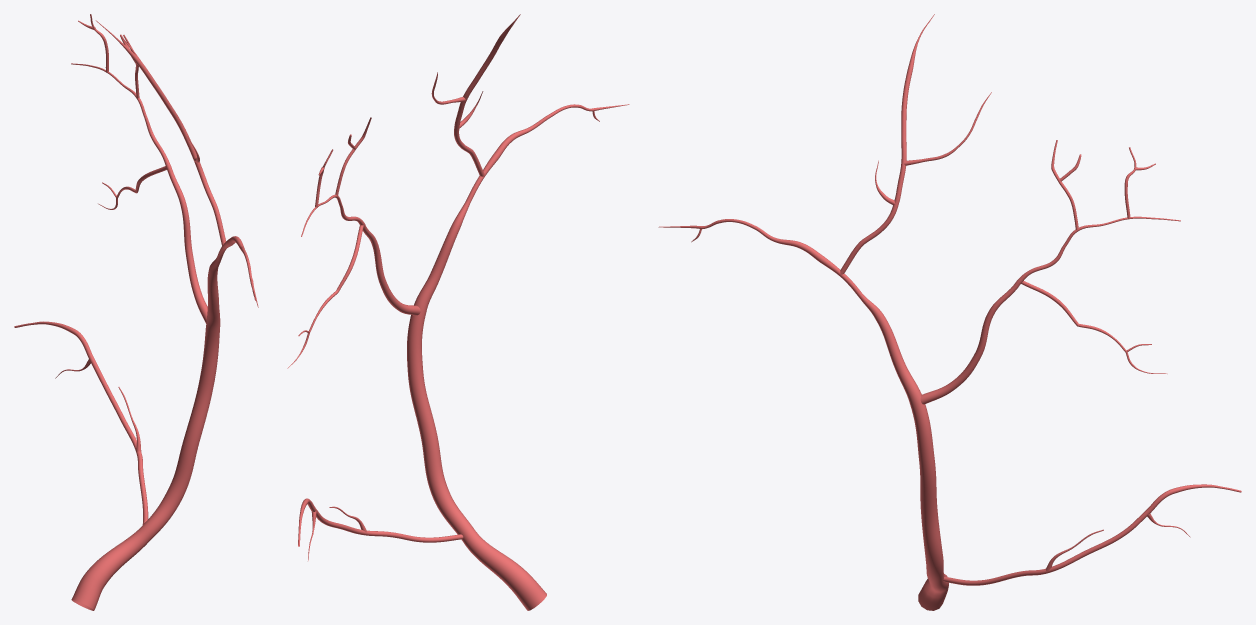
The model's file is Superficial_temporal_artery.r_BezierCurve.083.glb.
3 renders of one model, left to right at view 1: azimuth 30°, elevation 25°; view 2: azimuth 150°, elevation 25°; view 3: azimuth 270°, elevation 25°, orthographic. The views are drawn at different scales.
Visible parts, largest first — view 1: Superficial_temporal_artery.r_BezierCurve.083; view 2: Superficial_temporal_artery.r_BezierCurve.083; view 3: Superficial_temporal_artery.r_BezierCurve.083.
Part boxes in pixels (x1,y1,x2,y2): Superficial_temporal_artery.r_BezierCurve.083: (14,14,258,610); Superficial_temporal_artery.r_BezierCurve.083: (287,14,629,610); Superficial_temporal_artery.r_BezierCurve.083: (658,14,1241,610).
Bounding box in the file's own units: 0.0321 × 0.1264 × 0.1113.
